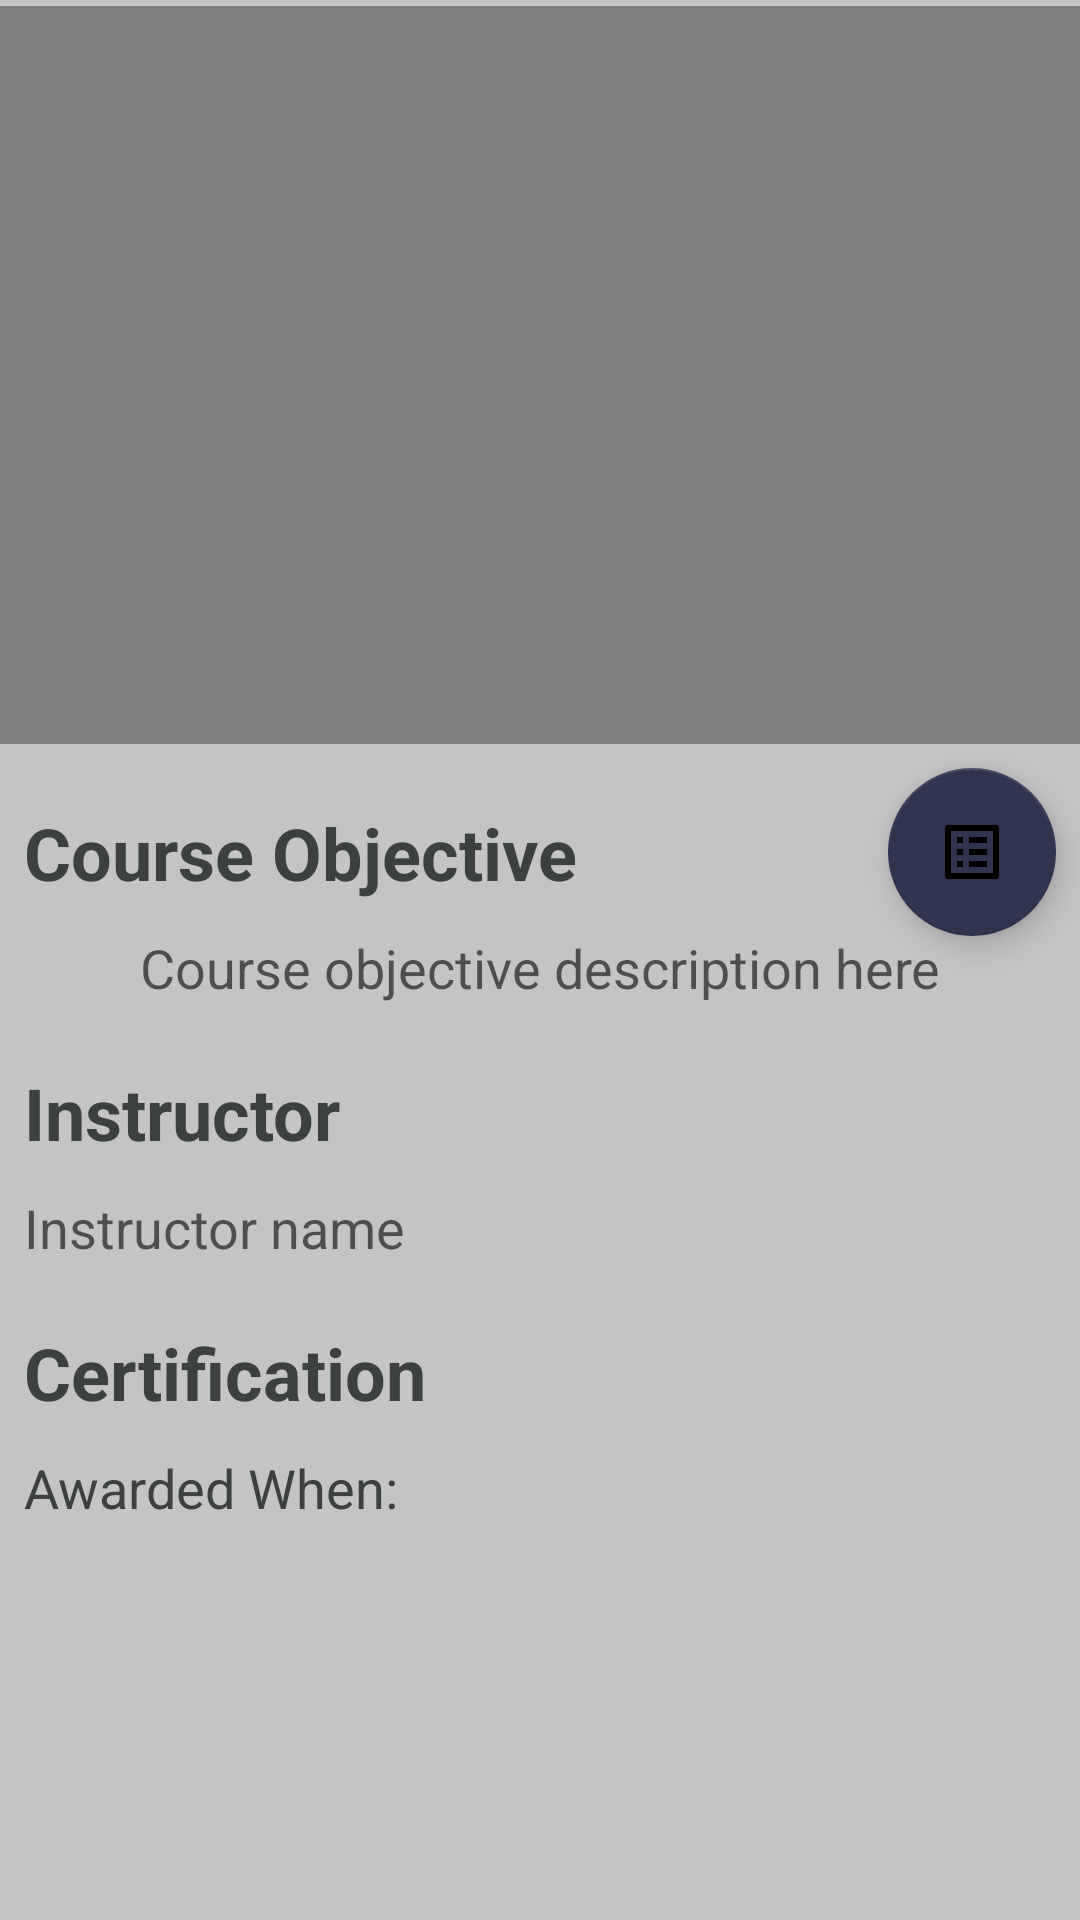

Icons on this 1080*1920 Android screen, each with the point to tap as [x,y]:
Course Info: [972,852]
